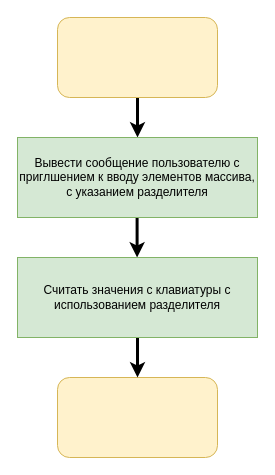
Image size: 275x475. Some labels were removed from this diagram. The shapes that lost their labels are listed below. From the top down, each one's box as (x1, y1, x2, y2) in pixels, then its label:
(56, 16, 218, 98): СТАРТ
(56, 376, 218, 458): КОНЕЦ
